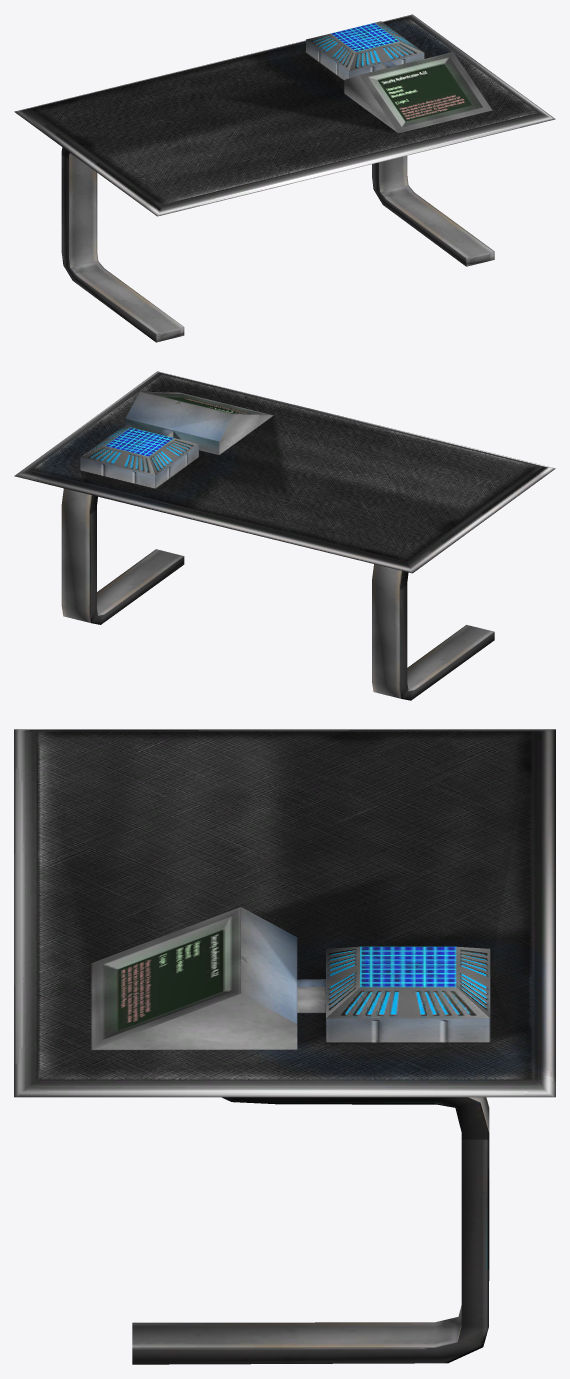
The model's file is desk01.glb.
3 renders of one model, top to bottom at view 1: azimuth 30°, elevation 25°; view 2: azimuth 150°, elevation 25°; view 3: azimuth 270°, elevation 25°, orthographic. The views are drawn at different scales.
Visible parts, largest first — view 1: Box01; view 2: Box01; view 3: Box01.
Boxes of the visible parts, left/top/right/bottom form: Box01: left=14, top=14, right=555, bottom=342; Box01: left=14, top=371, right=555, bottom=700; Box01: left=14, top=729, right=555, bottom=1364.
Size of the model in its own units: 110 by 50.17 by 68.56.
1 material, 1 textured.
